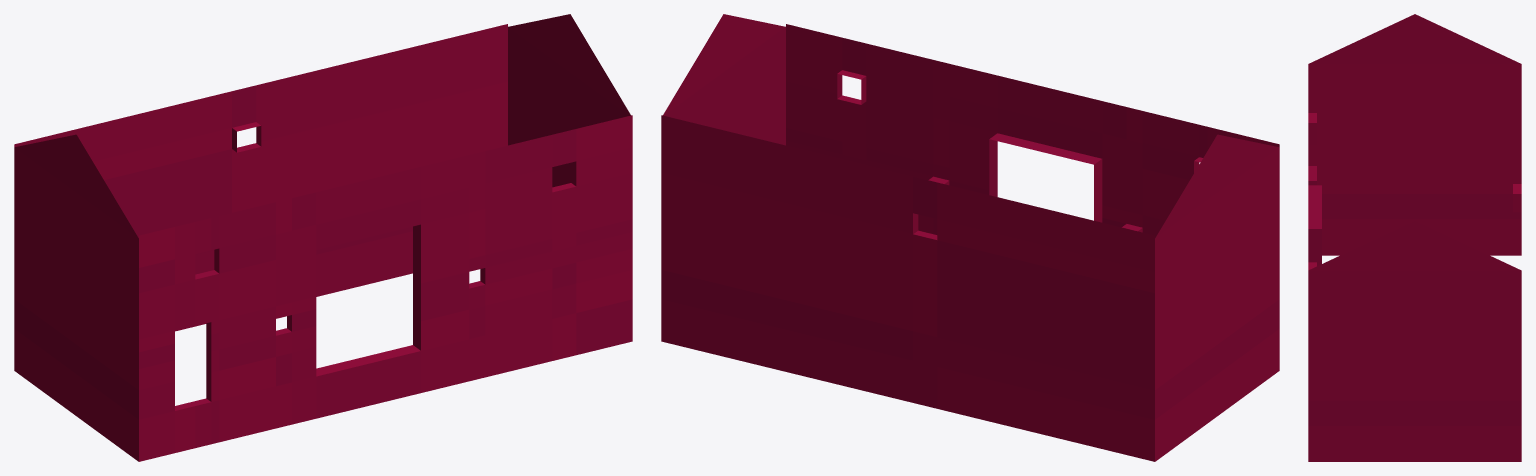
File: SM_Bld_063_Masonry.glb
3 views of the same model, side by side, from view 1: azimuth 30°, elevation 25°; view 2: azimuth 150°, elevation 25°; view 3: azimuth 270°, elevation 25° (orthographic). The views are drawn at different scales.
Visible parts, largest first — view 1: SM_Bld_063_Masonry; view 2: SM_Bld_063_Masonry; view 3: SM_Bld_063_Masonry.
Boxes of the visible parts, x1,y1,x2,y2 form: SM_Bld_063_Masonry: (14, 14, 632, 461); SM_Bld_063_Masonry: (661, 14, 1279, 461); SM_Bld_063_Masonry: (1308, 14, 1521, 461).
Size of the model in its own units: 12.26 by 6.69 by 5.36.
